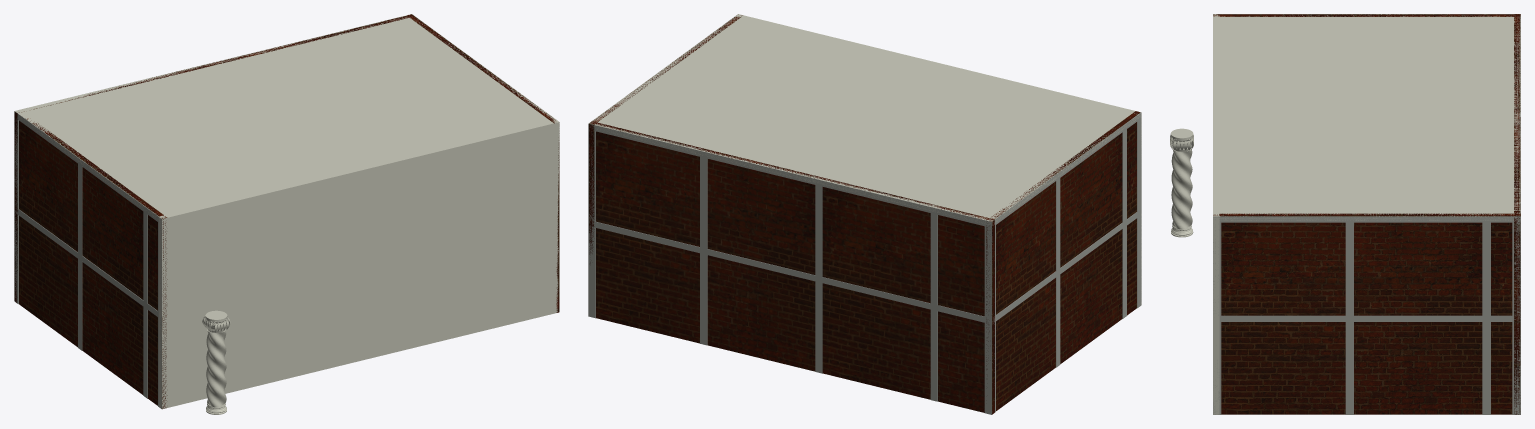
The model's file is building.glb.
3 views of the same model, side by side, from view 1: azimuth 30°, elevation 25°; view 2: azimuth 150°, elevation 25°; view 3: azimuth 270°, elevation 25° (orthographic). The views are drawn at different scales.
Visible parts, largest first — view 1: house:0/edge0/z0/house:0/edge0/z0/wall_0_0, roof/house:0/roof_slab#0001, house:0/edge3/z0/house:0/edge3/z0/wall_0_0, house:0/edge2/z0/house:0/edge2/z0/wall_0_0, vertical_member/barroco_salomonic/member_shaft#0001, house:0/edge1/z0/house:0/edge1/z0/wall_0_0, house:0/edge3/z0/house:0/edge3/z0/beam_0_0, house:0/edge3/z0/house:0/edge3/z0/beam_1_0; view 2: house:0/edge2/z0/house:0/edge2/z0/wall_0_0, roof/house:0/roof_slab#0001, house:0/edge3/z0/house:0/edge3/z0/wall_0_0, house:0/edge2/z0/house:0/edge2/z0/beam_0_0, house:0/edge2/z0/house:0/edge2/z0/beam_1_0, house:0/edge0/z0/house:0/edge0/z0/wall_0_0, house:0/edge1/z0/house:0/edge1/z0/wall_0_0, house:0/edge3/z0/house:0/edge3/z0/beam_0_0, house:0/edge3/z0/house:0/edge3/z0/beam_1_0, house:0/edge2/z0/house:0/edge2/z0/column_1_1, house:0/edge2/z0/house:0/edge2/z0/column_3_1, house:0/edge2/z0/house:0/edge2/z0/column_4_0 (+6 smaller); view 3: roof/house:0/roof_slab#0001, house:0/edge1/z0/house:0/edge1/z0/wall_0_0, house:0/edge0/z0/house:0/edge0/z0/wall_0_0, house:0/edge2/z0/house:0/edge2/z0/wall_0_0, house:0/edge1/z0/house:0/edge1/z0/beam_1_0, house:0/edge1/z0/house:0/edge1/z0/beam_0_0, vertical_member/barroco_salomonic/member_shaft#0001, house:0/edge3/z0/house:0/edge3/z0/wall_0_0, house:0/edge1/z0/house:0/edge1/z0/column_3_0, house:0/edge1/z0/house:0/edge1/z0/column_2_0, house:0/edge1/z0/house:0/edge1/z0/column_2_1, house:0/edge1/z0/house:0/edge1/z0/column_3_1 (+3 smaller).
Part boxes in pixels (x1,y1,x2,y2): house:0/edge0/z0/house:0/edge0/z0/wall_0_0: (158, 120, 559, 408); roof/house:0/roof_slab#0001: (14, 14, 559, 222); house:0/edge3/z0/house:0/edge3/z0/wall_0_0: (19, 118, 167, 408); house:0/edge2/z0/house:0/edge2/z0/wall_0_0: (14, 15, 409, 302); vertical_member/barroco_salomonic/member_shaft#0001: (206, 329, 226, 407); house:0/edge1/z0/house:0/edge1/z0/wall_0_0: (407, 14, 559, 312); house:0/edge3/z0/house:0/edge3/z0/beam_0_0: (14, 208, 161, 319); house:0/edge3/z0/house:0/edge3/z0/beam_1_0: (14, 112, 162, 223); house:0/edge2/z0/house:0/edge2/z0/wall_0_0: (591, 121, 994, 414); roof/house:0/roof_slab#0001: (588, 14, 1140, 225); house:0/edge3/z0/house:0/edge3/z0/wall_0_0: (986, 111, 1140, 410); house:0/edge2/z0/house:0/edge2/z0/beam_0_0: (588, 220, 991, 324); house:0/edge2/z0/house:0/edge2/z0/beam_1_0: (588, 124, 991, 227); house:0/edge0/z0/house:0/edge0/z0/wall_0_0: (735, 14, 1141, 304); house:0/edge1/z0/house:0/edge1/z0/wall_0_0: (589, 15, 742, 263); house:0/edge3/z0/house:0/edge3/z0/beam_0_0: (991, 209, 1141, 323); house:0/edge3/z0/house:0/edge3/z0/beam_1_0: (991, 112, 1141, 225); house:0/edge2/z0/house:0/edge2/z0/column_1_1: (984, 226, 991, 318); house:0/edge2/z0/house:0/edge2/z0/column_3_1: (815, 281, 822, 373); house:0/edge2/z0/house:0/edge2/z0/column_4_0: (930, 213, 937, 305); roof/house:0/roof_slab#0001: (1213, 14, 1520, 220); house:0/edge1/z0/house:0/edge1/z0/wall_0_0: (1213, 213, 1520, 414); house:0/edge0/z0/house:0/edge0/z0/wall_0_0: (1213, 14, 1219, 414); house:0/edge2/z0/house:0/edge2/z0/wall_0_0: (1514, 14, 1520, 414); house:0/edge1/z0/house:0/edge1/z0/beam_1_0: (1213, 216, 1520, 222); house:0/edge1/z0/house:0/edge1/z0/beam_0_0: (1219, 315, 1520, 321); vertical_member/barroco_salomonic/member_shaft#0001: (1171, 148, 1192, 229); house:0/edge3/z0/house:0/edge3/z0/wall_0_0: (1213, 14, 1520, 16); house:0/edge1/z0/house:0/edge1/z0/column_3_0: (1482, 222, 1490, 315); house:0/edge1/z0/house:0/edge1/z0/column_2_0: (1345, 222, 1353, 315); house:0/edge1/z0/house:0/edge1/z0/column_2_1: (1345, 322, 1353, 414); house:0/edge1/z0/house:0/edge1/z0/column_3_1: (1482, 322, 1490, 414).
Bounding box in the file's own units: 14 × 6.4 × 10.25.
3 materials, 1 textured.
